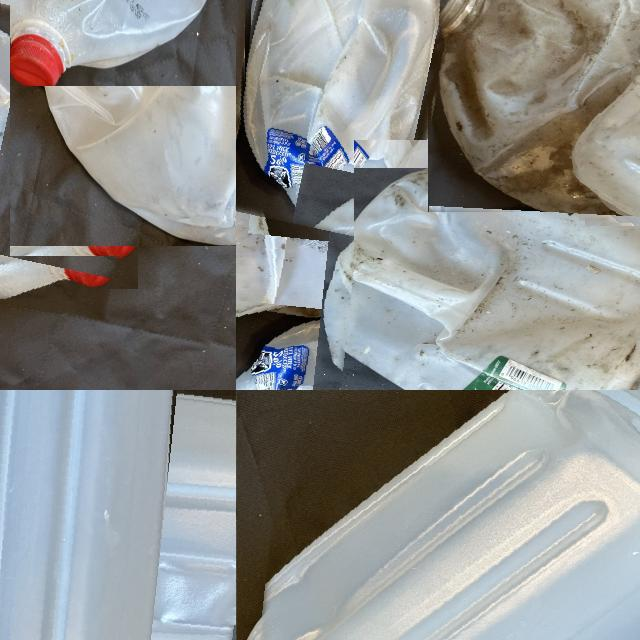milk-jug: (253, 390, 640, 640), (354, 140, 640, 390), (0, 390, 236, 640), (10, 0, 236, 256), (236, 0, 457, 238), (432, 0, 640, 222), (0, 0, 151, 304), (236, 96, 361, 390)
